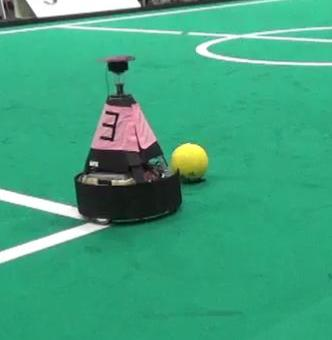robot: (73, 54, 185, 226)
